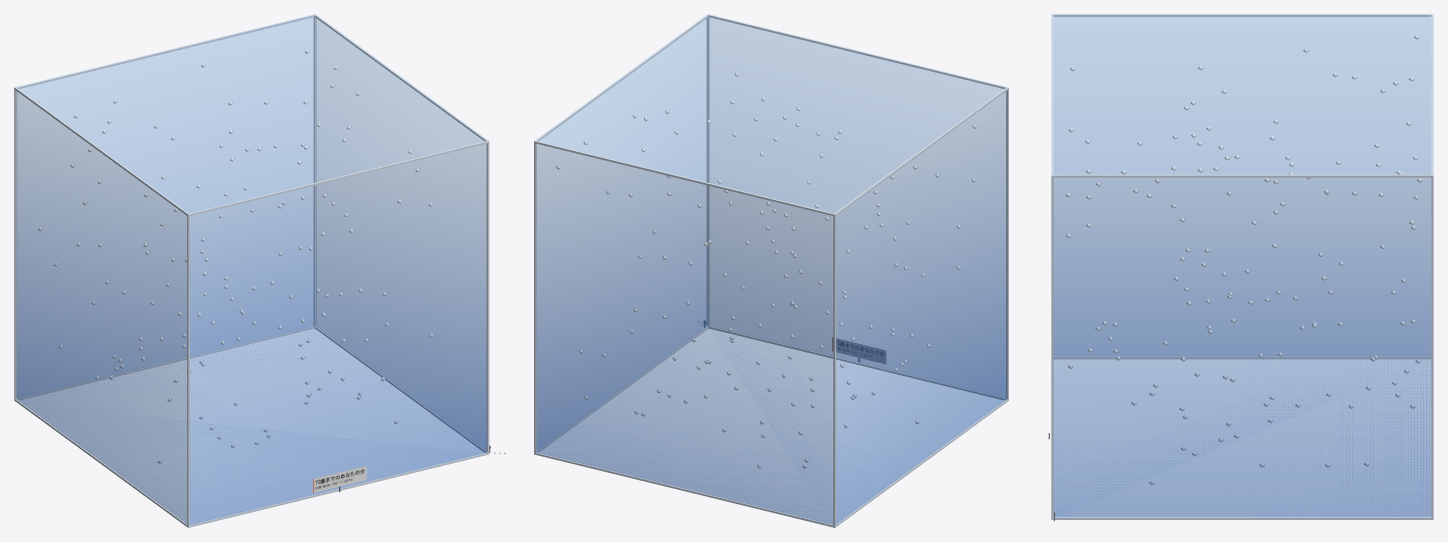
Rendered from cube_life_72.glb.
3 views of the same model, side by side, from view 1: azimuth 30°, elevation 25°; view 2: azimuth 150°, elevation 25°; view 3: azimuth 270°, elevation 25° (orthographic). The views are drawn at different scales.
Visible parts, largest first — view 1: co2, edge, dots, label; view 2: co2, edge, dots, label; view 3: co2, edge, dots.
Boxes of the visible parts, <box> form: co2: <box>16,15,486,524</box>; edge: <box>14,14,489,527</box>; dots: <box>36,49,433,463</box>; label: <box>313,466,366,492</box>; co2: <box>536,15,1006,524</box>; edge: <box>534,14,1008,527</box>; dots: <box>556,72,976,468</box>; label: <box>832,337,885,363</box>; co2: <box>1053,14,1431,516</box>; edge: <box>1051,14,1433,519</box>; dots: <box>1065,35,1422,485</box>.
Size of the model in its own units: 70.42 by 66.65 by 69.52.
Materials: 8 (3 with a texture image).
